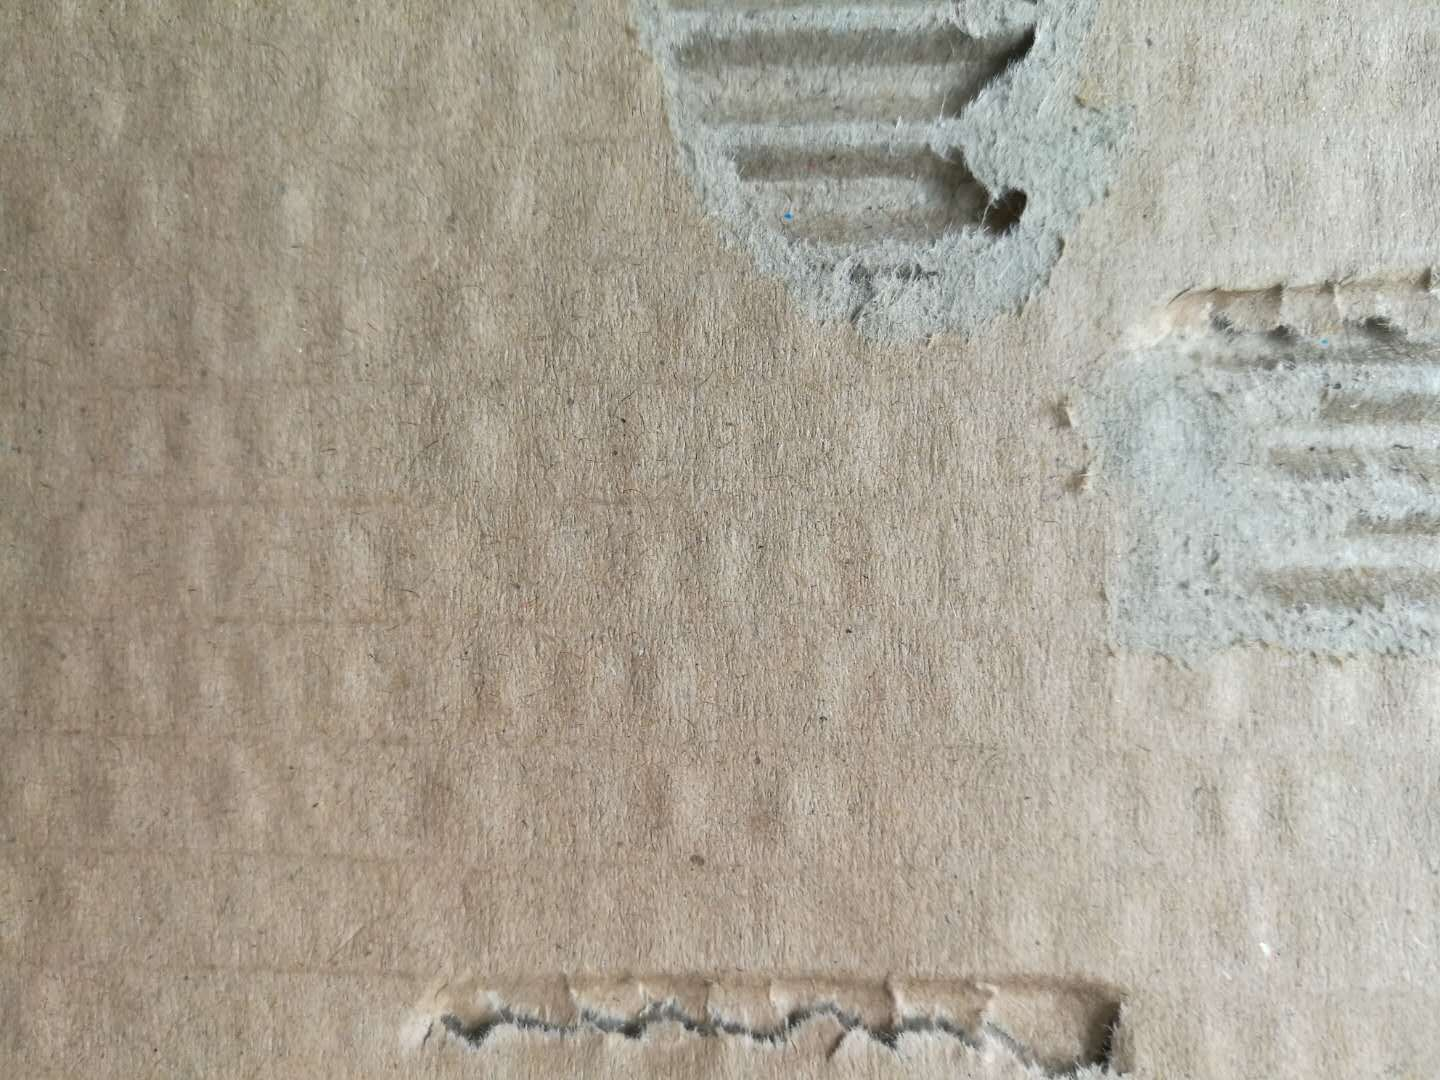defect: (596, 2, 1171, 374), (1039, 225, 1440, 712), (372, 927, 1202, 1080)
